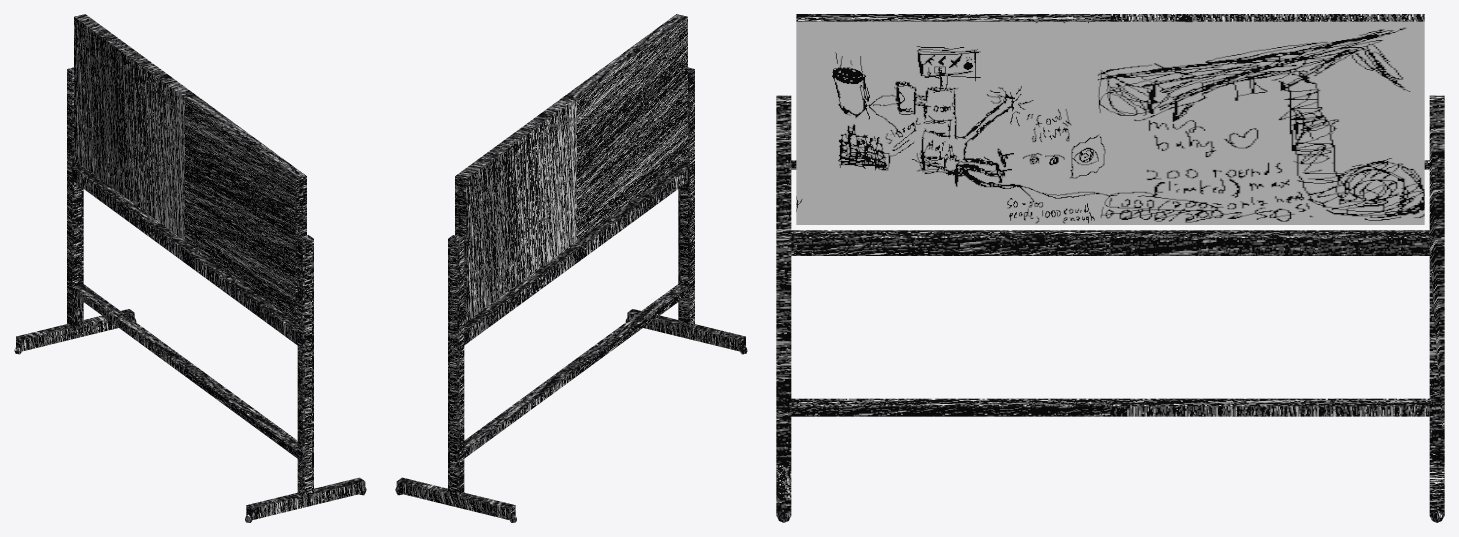
File: White Board.fbx
3 renders of one model, left to right at view 1: azimuth 30°, elevation 25°; view 2: azimuth 150°, elevation 25°; view 3: azimuth 270°, elevation 25°, orthographic. The views are drawn at different scales.
Parts seen in each view (by area): view 1: White Board; view 2: White Board; view 3: White Board.
Boxes of the visible parts, box(x1,y1,x2,y2) form: White Board: box(14, 14, 366, 522); White Board: box(395, 14, 747, 522); White Board: box(776, 14, 1444, 522).
Bounding box in the file's own units: 358 × 920 × 1198.
